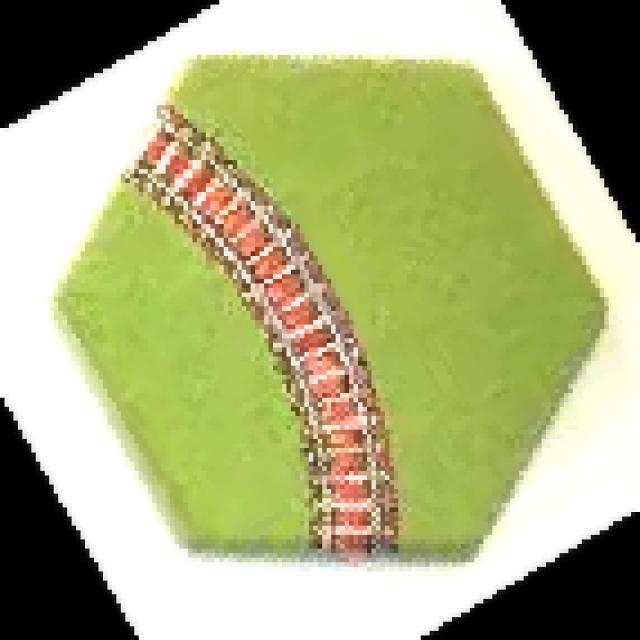2_5: (58, 55, 609, 567)
